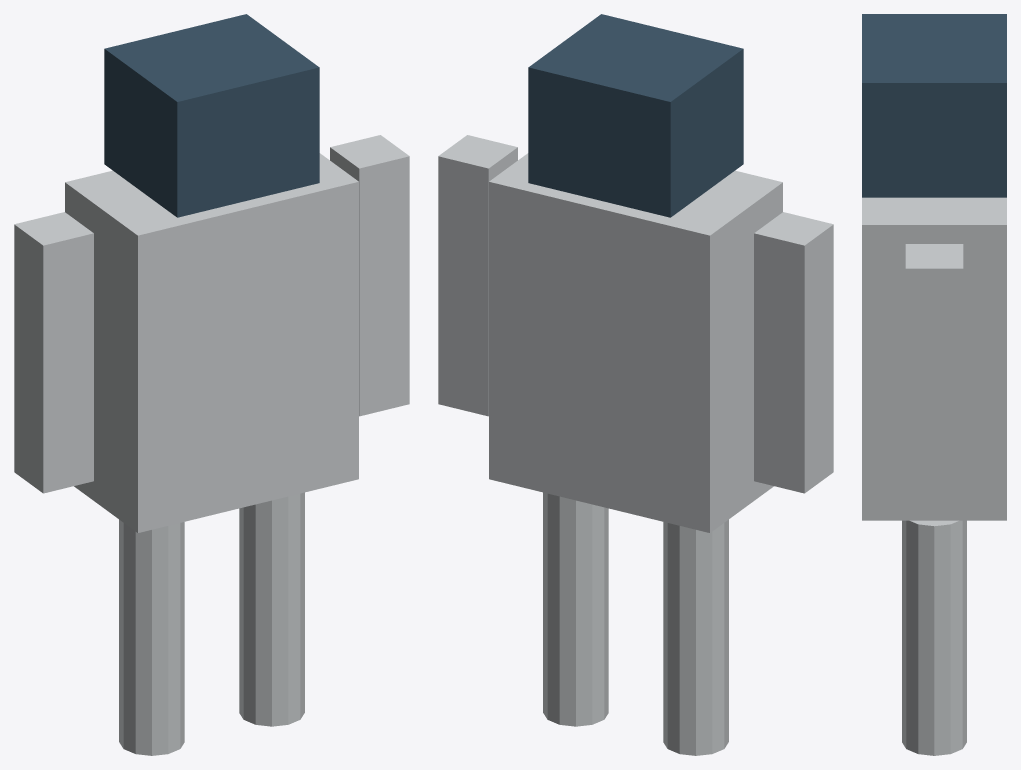
The model's file is s1-robot.glb.
3 renders of one model, left to right at view 1: azimuth 30°, elevation 25°; view 2: azimuth 150°, elevation 25°; view 3: azimuth 270°, elevation 25°, orthographic.
Visible parts, largest first — view 1: Torso, Head, Arm_L, Leg_L, Leg_R, Arm_R; view 2: Torso, Head, Arm_L, Leg_L, Leg_R, Arm_R; view 3: Torso, Head, Arm_R, Leg_R.
Part boxes in pixels (x1=…): Torso: x1=65, y1=153, x2=358, y2=532; Head: x1=104, y1=14, x2=319, y2=217; Arm_L: x1=14, y1=212, x2=93, y2=493; Leg_L: x1=119, y1=519, x2=184, y2=755; Leg_R: x1=239, y1=492, x2=304, y2=726; Arm_R: x1=330, y1=135, x2=409, y2=416; Torso: x1=489, y1=153, x2=782, y2=532; Head: x1=528, y1=14, x2=743, y2=217; Arm_L: x1=754, y1=212, x2=833, y2=493; Leg_L: x1=663, y1=519, x2=728, y2=755; Leg_R: x1=543, y1=492, x2=608, y2=726; Arm_R: x1=438, y1=135, x2=517, y2=416; Torso: x1=862, y1=197, x2=1006, y2=520; Head: x1=862, y1=14, x2=1006, y2=197; Arm_R: x1=905, y1=244, x2=963, y2=514; Leg_R: x1=902, y1=520, x2=966, y2=755.
Size of the model in its own units: 1.16 by 2.03 by 0.4.
